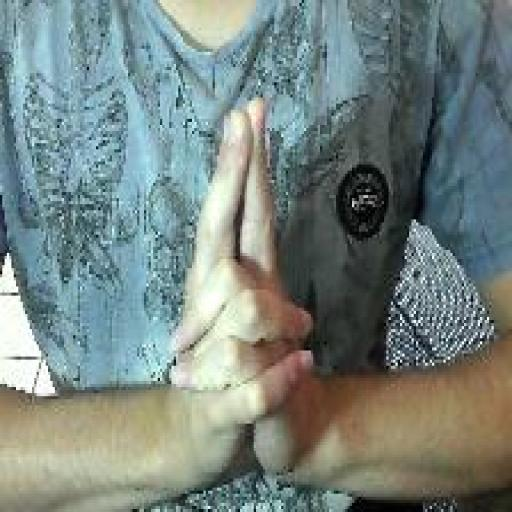Tora -tiger-: (163, 93, 319, 495)
